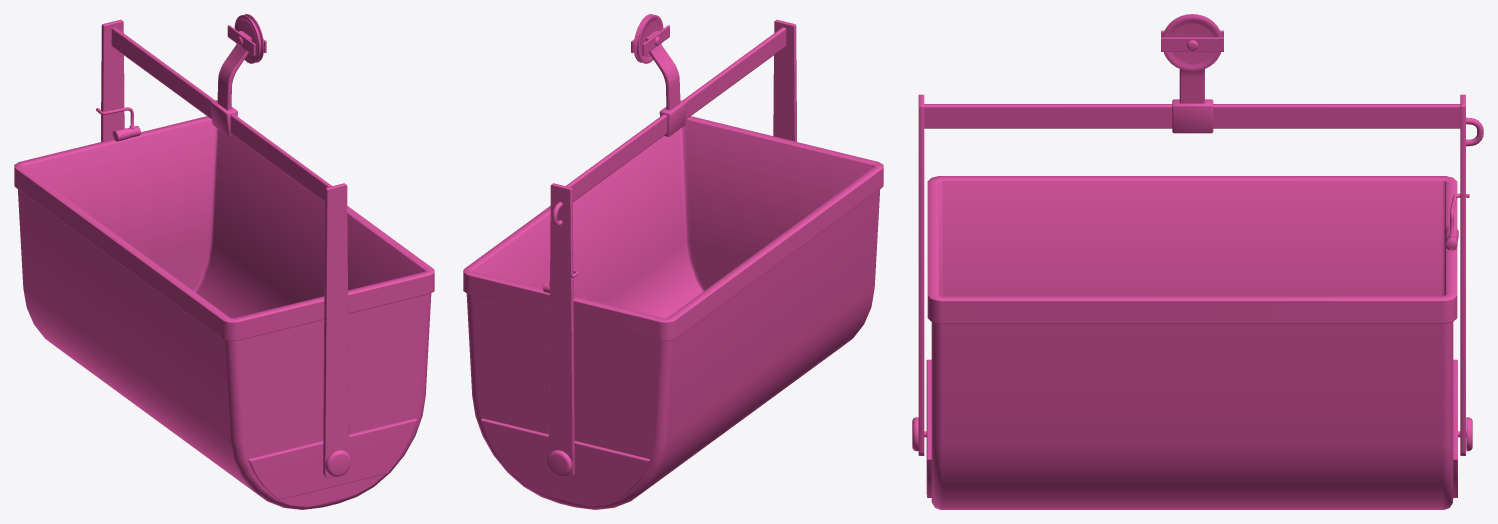
File: Minecart01.fbx
3 views of the same model, side by side, from view 1: azimuth 30°, elevation 25°; view 2: azimuth 150°, elevation 25°; view 3: azimuth 270°, elevation 25° (orthographic). The views are drawn at different scales.
Parts seen in each view (by area): view 1: SM_Mine_Minecart01; view 2: SM_Mine_Minecart01; view 3: SM_Mine_Minecart01.
Part boxes in pixels (left/top/right/bottom): SM_Mine_Minecart01: left=14, top=14, right=434, bottom=509; SM_Mine_Minecart01: left=463, top=14, right=883, bottom=509; SM_Mine_Minecart01: left=912, top=14, right=1483, bottom=509.
Size of the model in its own units: 1.16 by 2.15 by 2.25.
